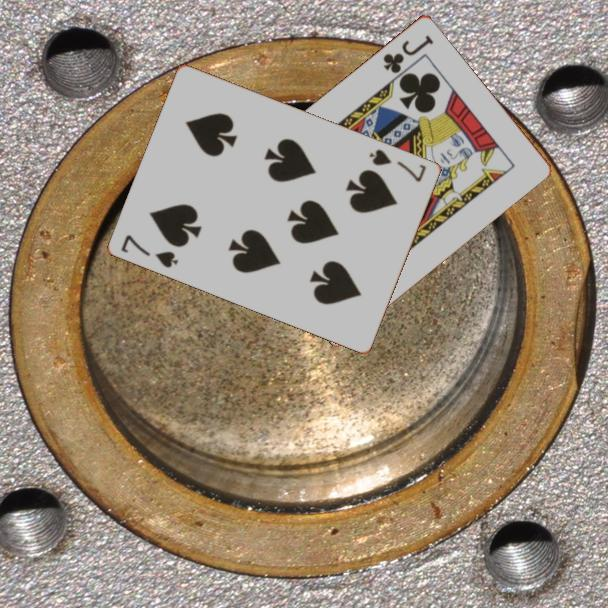c11: (379, 31, 437, 76)
s07: (366, 145, 430, 185), (118, 231, 181, 271)
